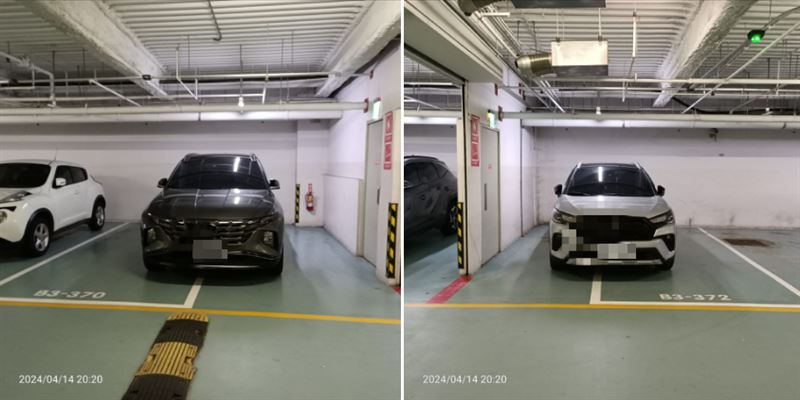car: (139, 138, 287, 288), (544, 159, 683, 283), (1, 148, 107, 259), (403, 141, 459, 263)
